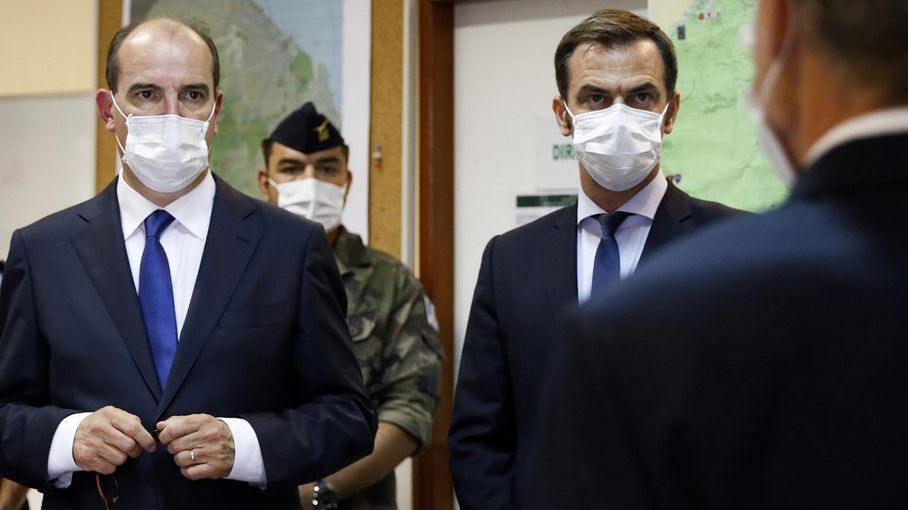with_mask: (119, 64, 214, 188), (571, 72, 663, 192), (271, 153, 348, 228)
